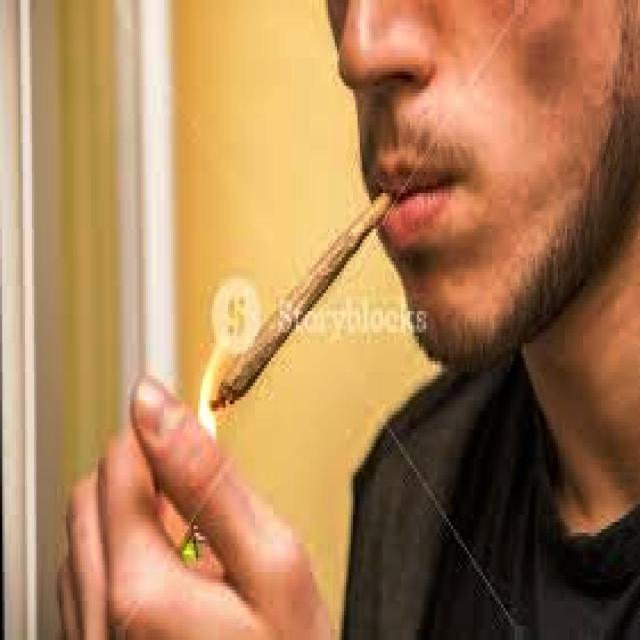api: (188, 344, 238, 448)
